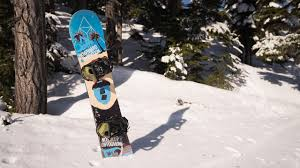snowboard: (67, 7, 136, 161)
